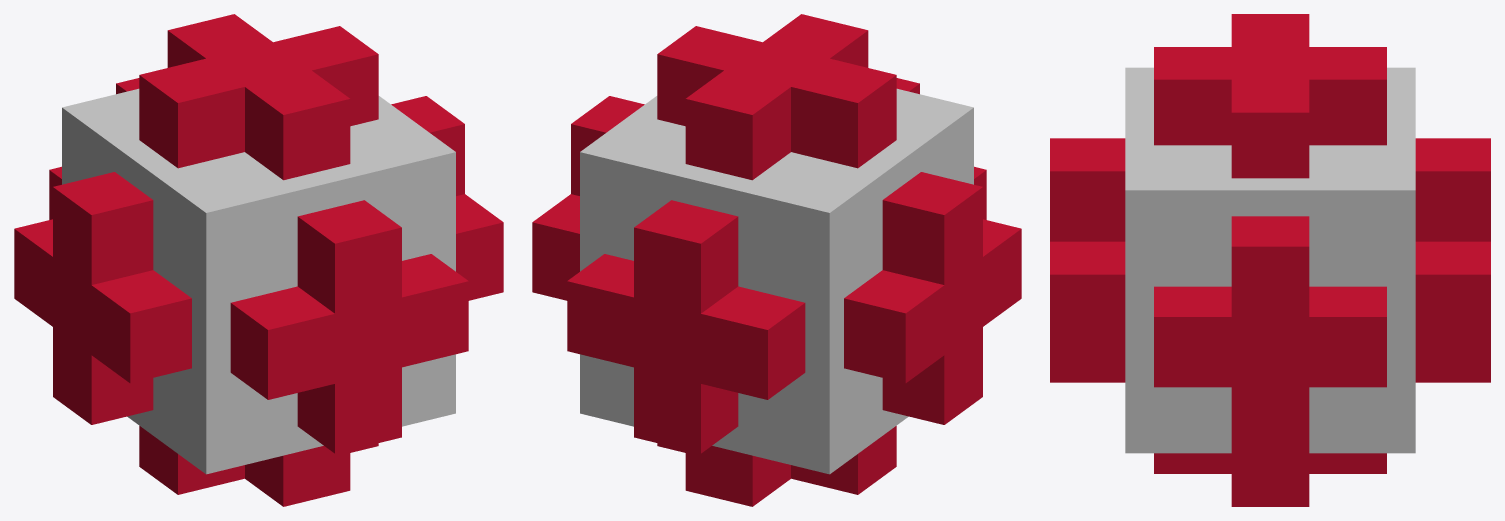
The model's file is PotencioadorVida.dae.
The picture shows the model from 3 angles, left to right: view 1: azimuth 30°, elevation 25°; view 2: azimuth 150°, elevation 25°; view 3: azimuth 270°, elevation 25°; orthographic projection.
Visible parts, largest first — view 1: Vida-col, CubeVida-col; view 2: Vida-col, CubeVida-col; view 3: Vida-col, CubeVida-col.
Boxes of the visible parts, bbox=[...] form: Vida-col: bbox=[14, 14, 503, 506]; CubeVida-col: bbox=[62, 88, 455, 474]; Vida-col: bbox=[532, 14, 1021, 506]; CubeVida-col: bbox=[580, 88, 973, 474]; Vida-col: bbox=[1050, 14, 1490, 506]; CubeVida-col: bbox=[1125, 67, 1415, 453].
Bounding box in the file's own units: 2.23 × 2.27 × 2.24.
